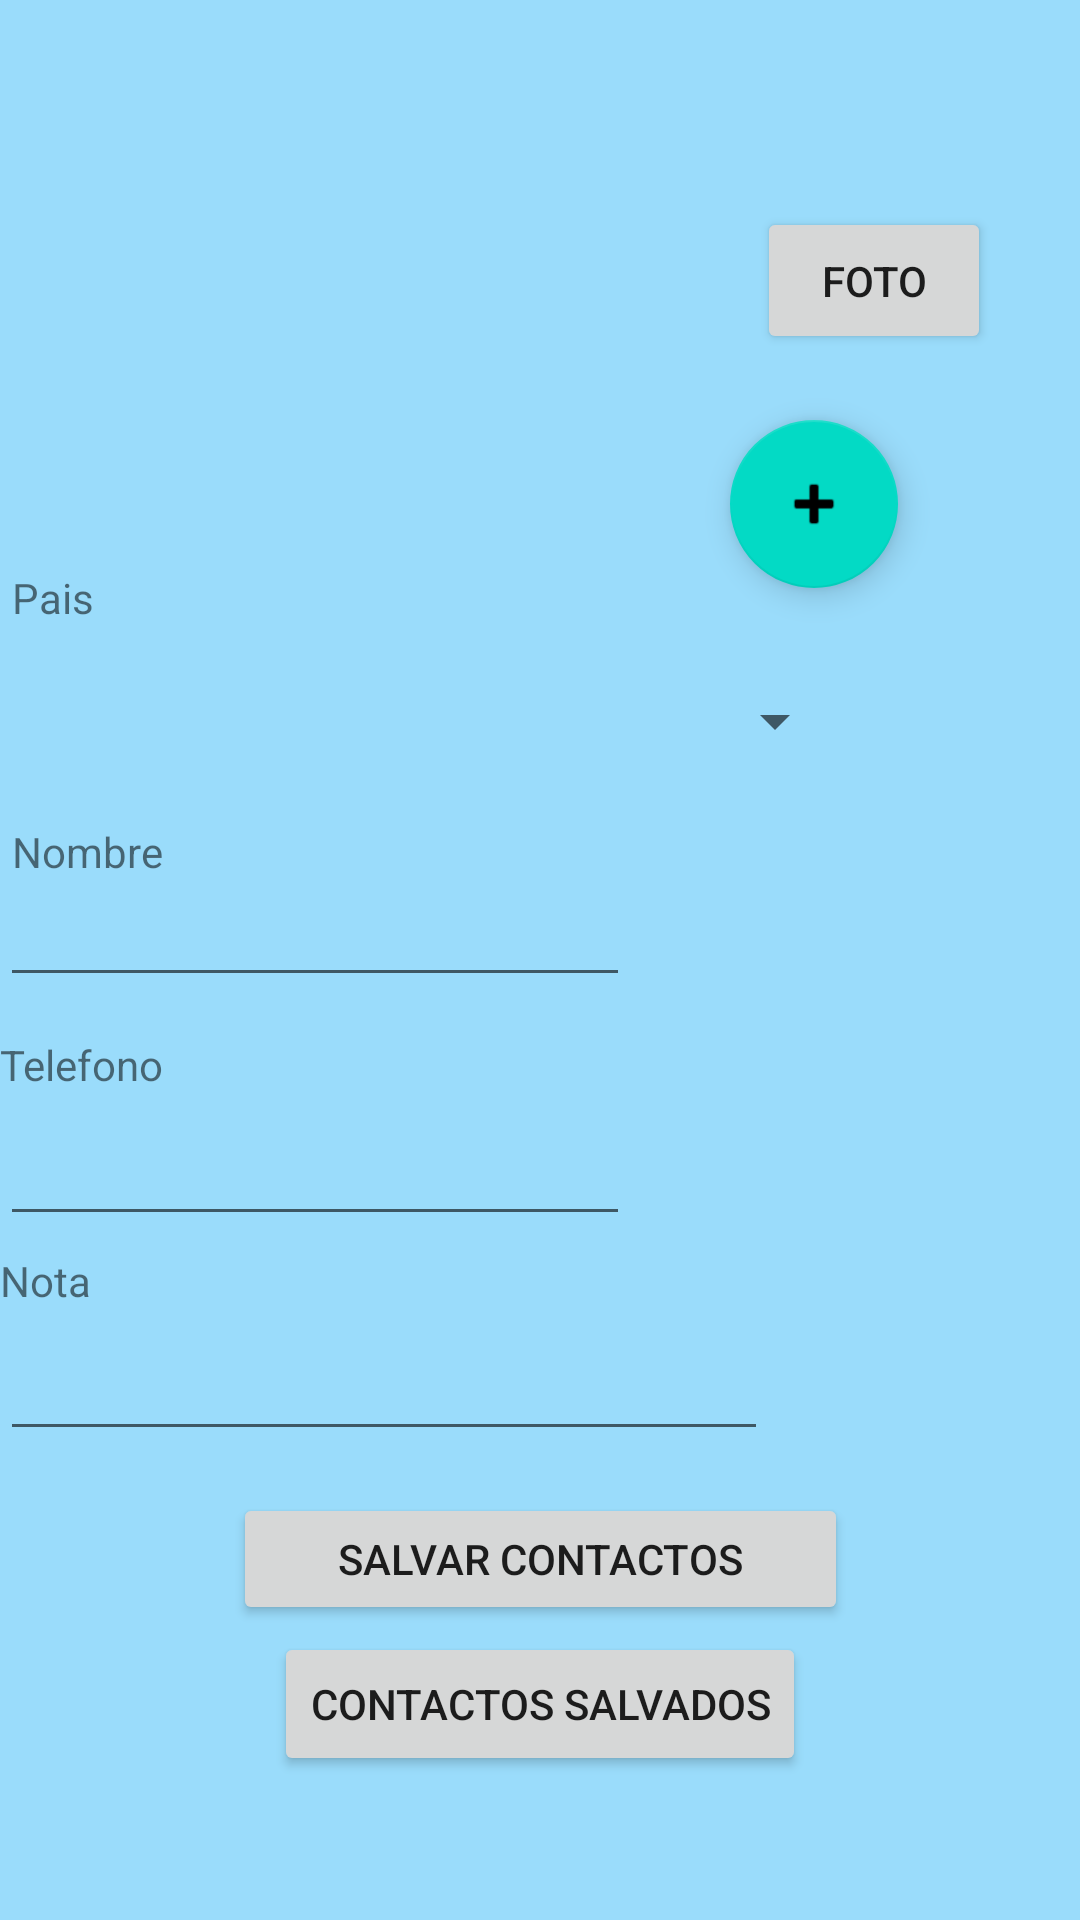

Screen size 1080×1920. Icon name, then its center in pixels as (x,y):
add: (814,504)
